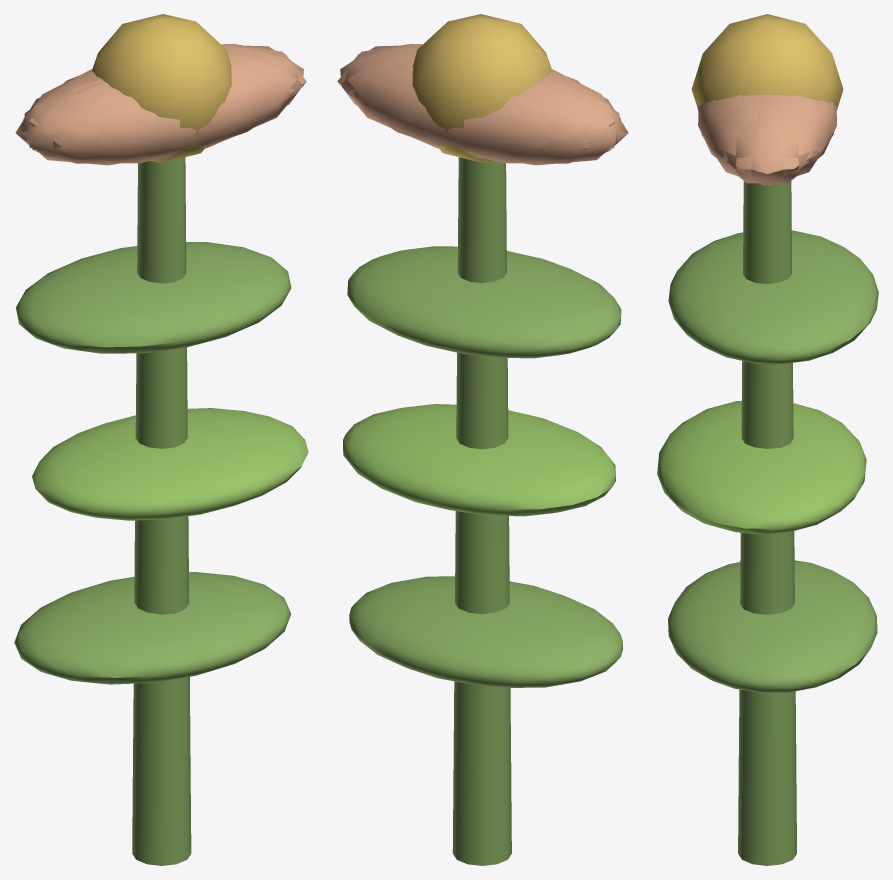
Rendered from nauclea-orientalis.glb.
3 renders of one model, left to right at view 1: azimuth 30°, elevation 25°; view 2: azimuth 150°, elevation 25°; view 3: azimuth 270°, elevation 25°, orthographic.
Parts seen in each view (by area): view 1: stem, leaf1, leaf2, leaf0, center, petal6, petal2, petal1, petal5, petal7, petal0; view 2: stem, leaf2, leaf0, leaf1, center, petal3, petal7, petal8, petal4, petal2, petal0; view 3: stem, leaf1, leaf2, leaf0, center, petal0, petal4, petal5, petal1, petal8.
Part boxes in pixels (bbox=[...]): stem: bbox=[132, 157, 191, 865]; leaf1: bbox=[32, 408, 308, 520]; leaf2: bbox=[15, 242, 291, 353]; leaf0: bbox=[14, 572, 290, 684]; center: bbox=[92, 14, 231, 163]; petal6: bbox=[32, 82, 218, 163]; petal2: bbox=[24, 76, 167, 165]; petal1: bbox=[97, 61, 290, 161]; petal5: bbox=[157, 52, 306, 154]; petal7: bbox=[15, 71, 110, 157]; petal0: bbox=[225, 45, 303, 138]; stem: bbox=[452, 157, 511, 865]; leaf2: bbox=[347, 246, 621, 358]; leaf0: bbox=[349, 576, 622, 687]; leaf1: bbox=[343, 404, 615, 516]; center: bbox=[412, 14, 551, 163]; petal3: bbox=[425, 82, 611, 163]; petal7: bbox=[476, 76, 619, 165]; petal8: bbox=[354, 61, 546, 161]; petal4: bbox=[337, 52, 486, 154]; petal2: bbox=[533, 71, 628, 157]; petal0: bbox=[340, 45, 418, 138]; stem: bbox=[738, 181, 796, 865]; leaf1: bbox=[657, 400, 866, 534]; leaf2: bbox=[668, 230, 878, 364]; leaf0: bbox=[668, 560, 877, 693]; center: bbox=[691, 14, 843, 107]; petal0: bbox=[711, 94, 823, 183]; petal4: bbox=[756, 95, 833, 185]; petal5: bbox=[701, 95, 778, 185]; petal1: bbox=[698, 95, 745, 158]; petal8: bbox=[789, 95, 836, 158].
Size of the model in its own units: 0.1541 by 0.4356 by 0.1051.
